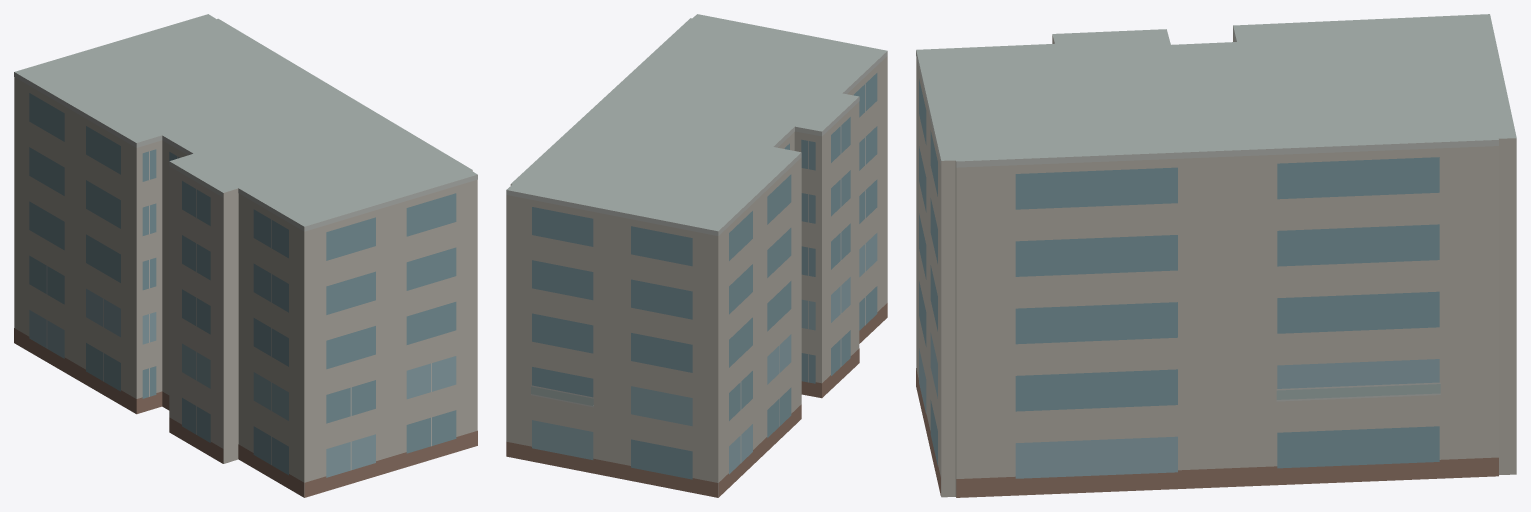
The model's file is survey-upis-32670636.glb.
The picture shows the model from 3 angles, left to right: view 1: azimuth 30°, elevation 25°; view 2: azimuth 150°, elevation 25°; view 3: azimuth 270°, elevation 25°; orthographic projection. The views are drawn at different scales.
Visible parts, largest first — view 1: survey-upis-32670636.tmp; view 2: survey-upis-32670636.tmp; view 3: survey-upis-32670636.tmp.
Part boxes in pixels (x1,y1,x2,y2): survey-upis-32670636.tmp: (14,14,477,497); survey-upis-32670636.tmp: (506,14,887,497); survey-upis-32670636.tmp: (916,14,1516,497).
Bounding box in the file's own units: 12.65 × 13.45 × 21.78.
